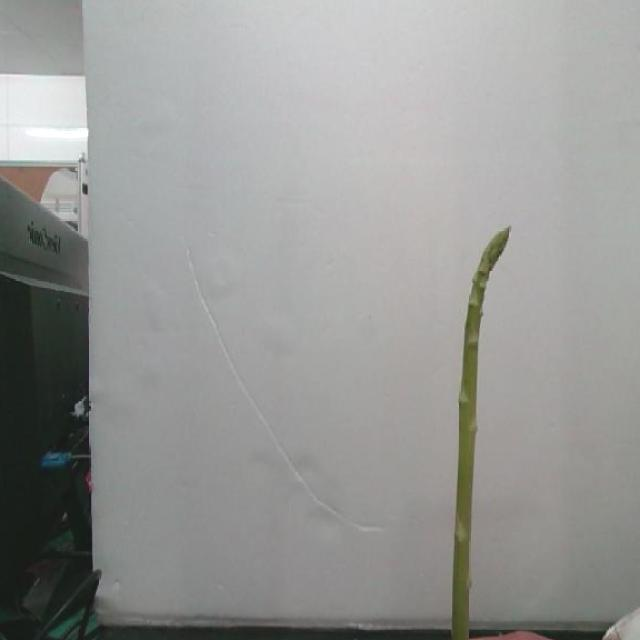aspargus: (453, 230, 511, 640)
